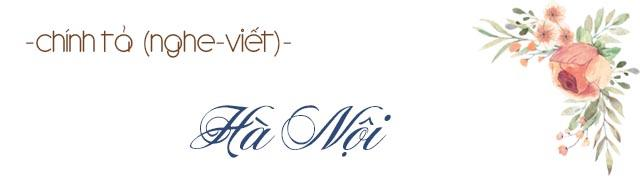text: (187, 102, 392, 162), (24, 24, 293, 59)
